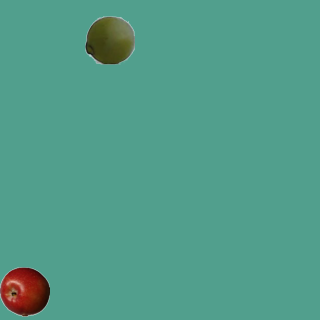Apple Braeburn: (0, 266, 49, 316)
Grape White 4: (84, 14, 134, 64)
